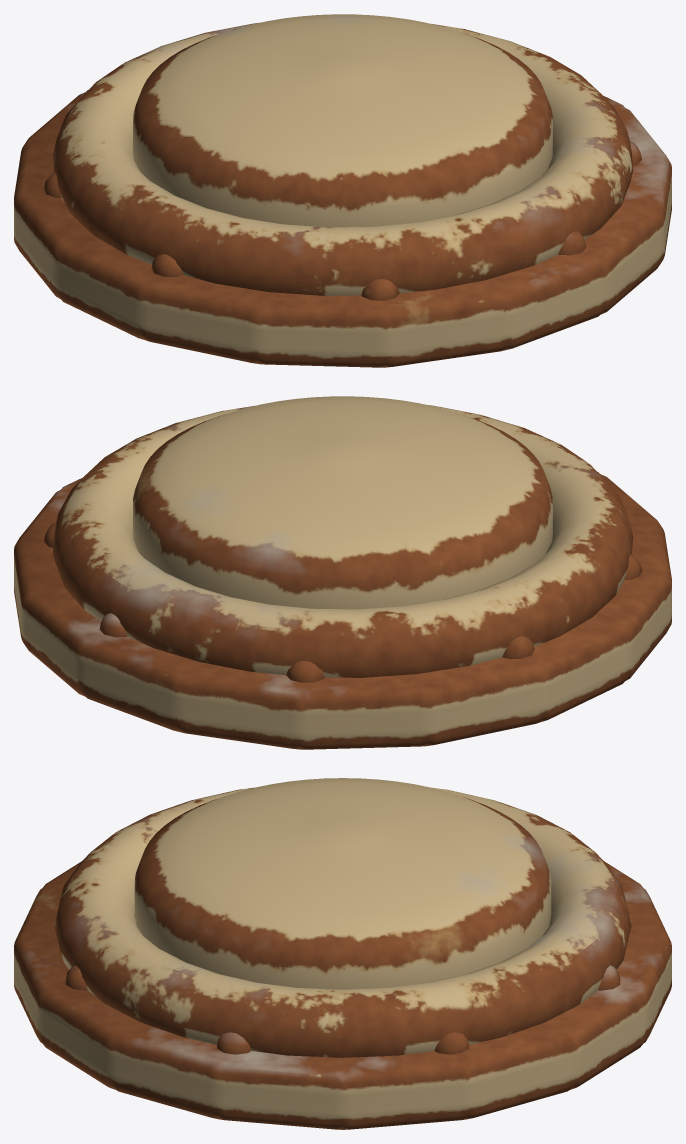
Rendered from arcade-pushbutton.glb.
3 renders of one model, top to bottom at view 1: azimuth 30°, elevation 25°; view 2: azimuth 150°, elevation 25°; view 3: azimuth 270°, elevation 25°, orthographic.
Visible parts, largest first — view 1: SM_ArcadePushbutton; view 2: SM_ArcadePushbutton; view 3: SM_ArcadePushbutton.
Boxes of the visible parts, x1,y1,x2,y2 form: SM_ArcadePushbutton: [14, 14, 671, 367]; SM_ArcadePushbutton: [14, 396, 671, 749]; SM_ArcadePushbutton: [14, 778, 671, 1129].
Bounding box in the file's own units: 1.04 × 0.2846 × 1.04.
1 material, 1 textured.
